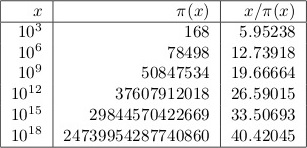column: (63, 1, 210, 148), (232, 1, 296, 148), (12, 1, 42, 148)
row: (1, 3, 307, 20), (1, 43, 307, 60), (1, 23, 307, 39), (1, 85, 307, 101), (1, 105, 307, 121), (1, 126, 307, 142), (1, 64, 307, 79)
